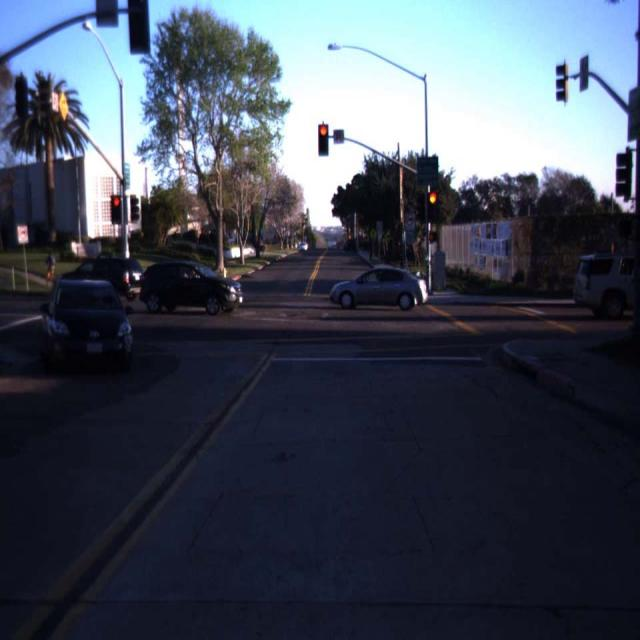kirmizi: (110, 194, 122, 225), (318, 124, 329, 156), (427, 191, 437, 221)
